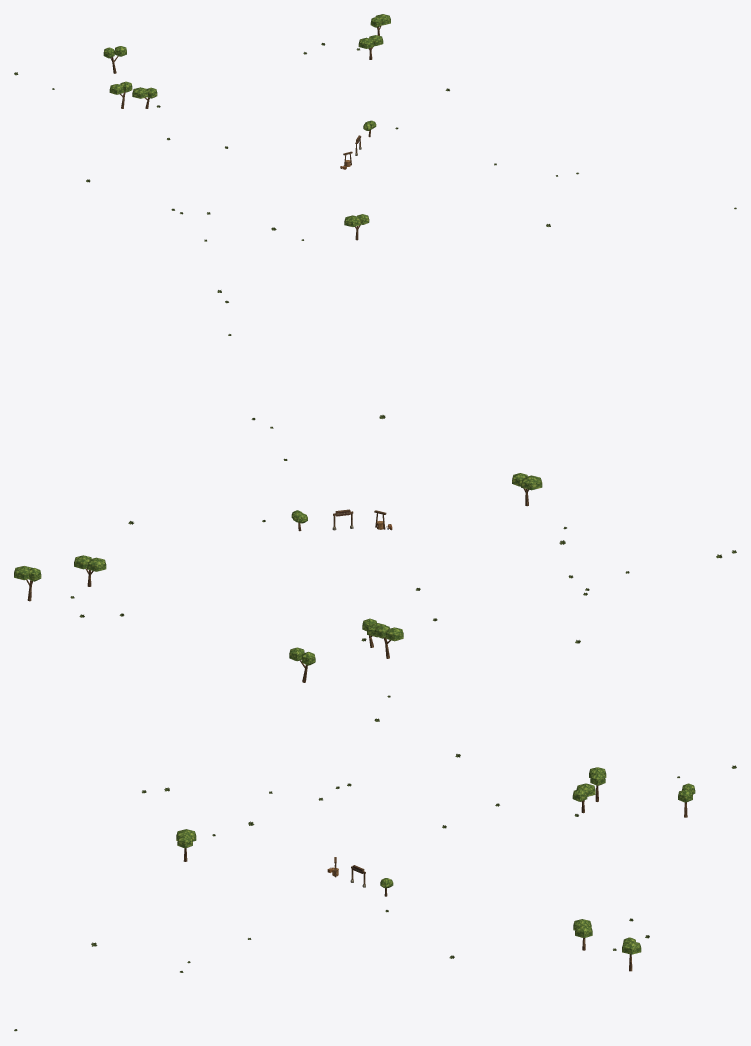
The model's file is FieldCell_1_5.fbx.
The picture shows the model from 3 angles, top to bottom: view 1: azimuth 30°, elevation 25°; view 2: azimuth 150°, elevation 25°; view 3: azimuth 270°, elevation 25°; orthographic projection. The views are drawn at different scales.
Parts seen in each view (by area): view 1: FieldCell_1_5; view 2: FieldCell_1_5; view 3: FieldCell_1_5.
Part boxes in pixels (x1,y1,x2,y2): FieldCell_1_5: [103, 14, 390, 240]; FieldCell_1_5: [14, 473, 542, 682]; FieldCell_1_5: [176, 767, 695, 971].
Bounding box in the file's own units: 13966 × 1760 × 15755.
